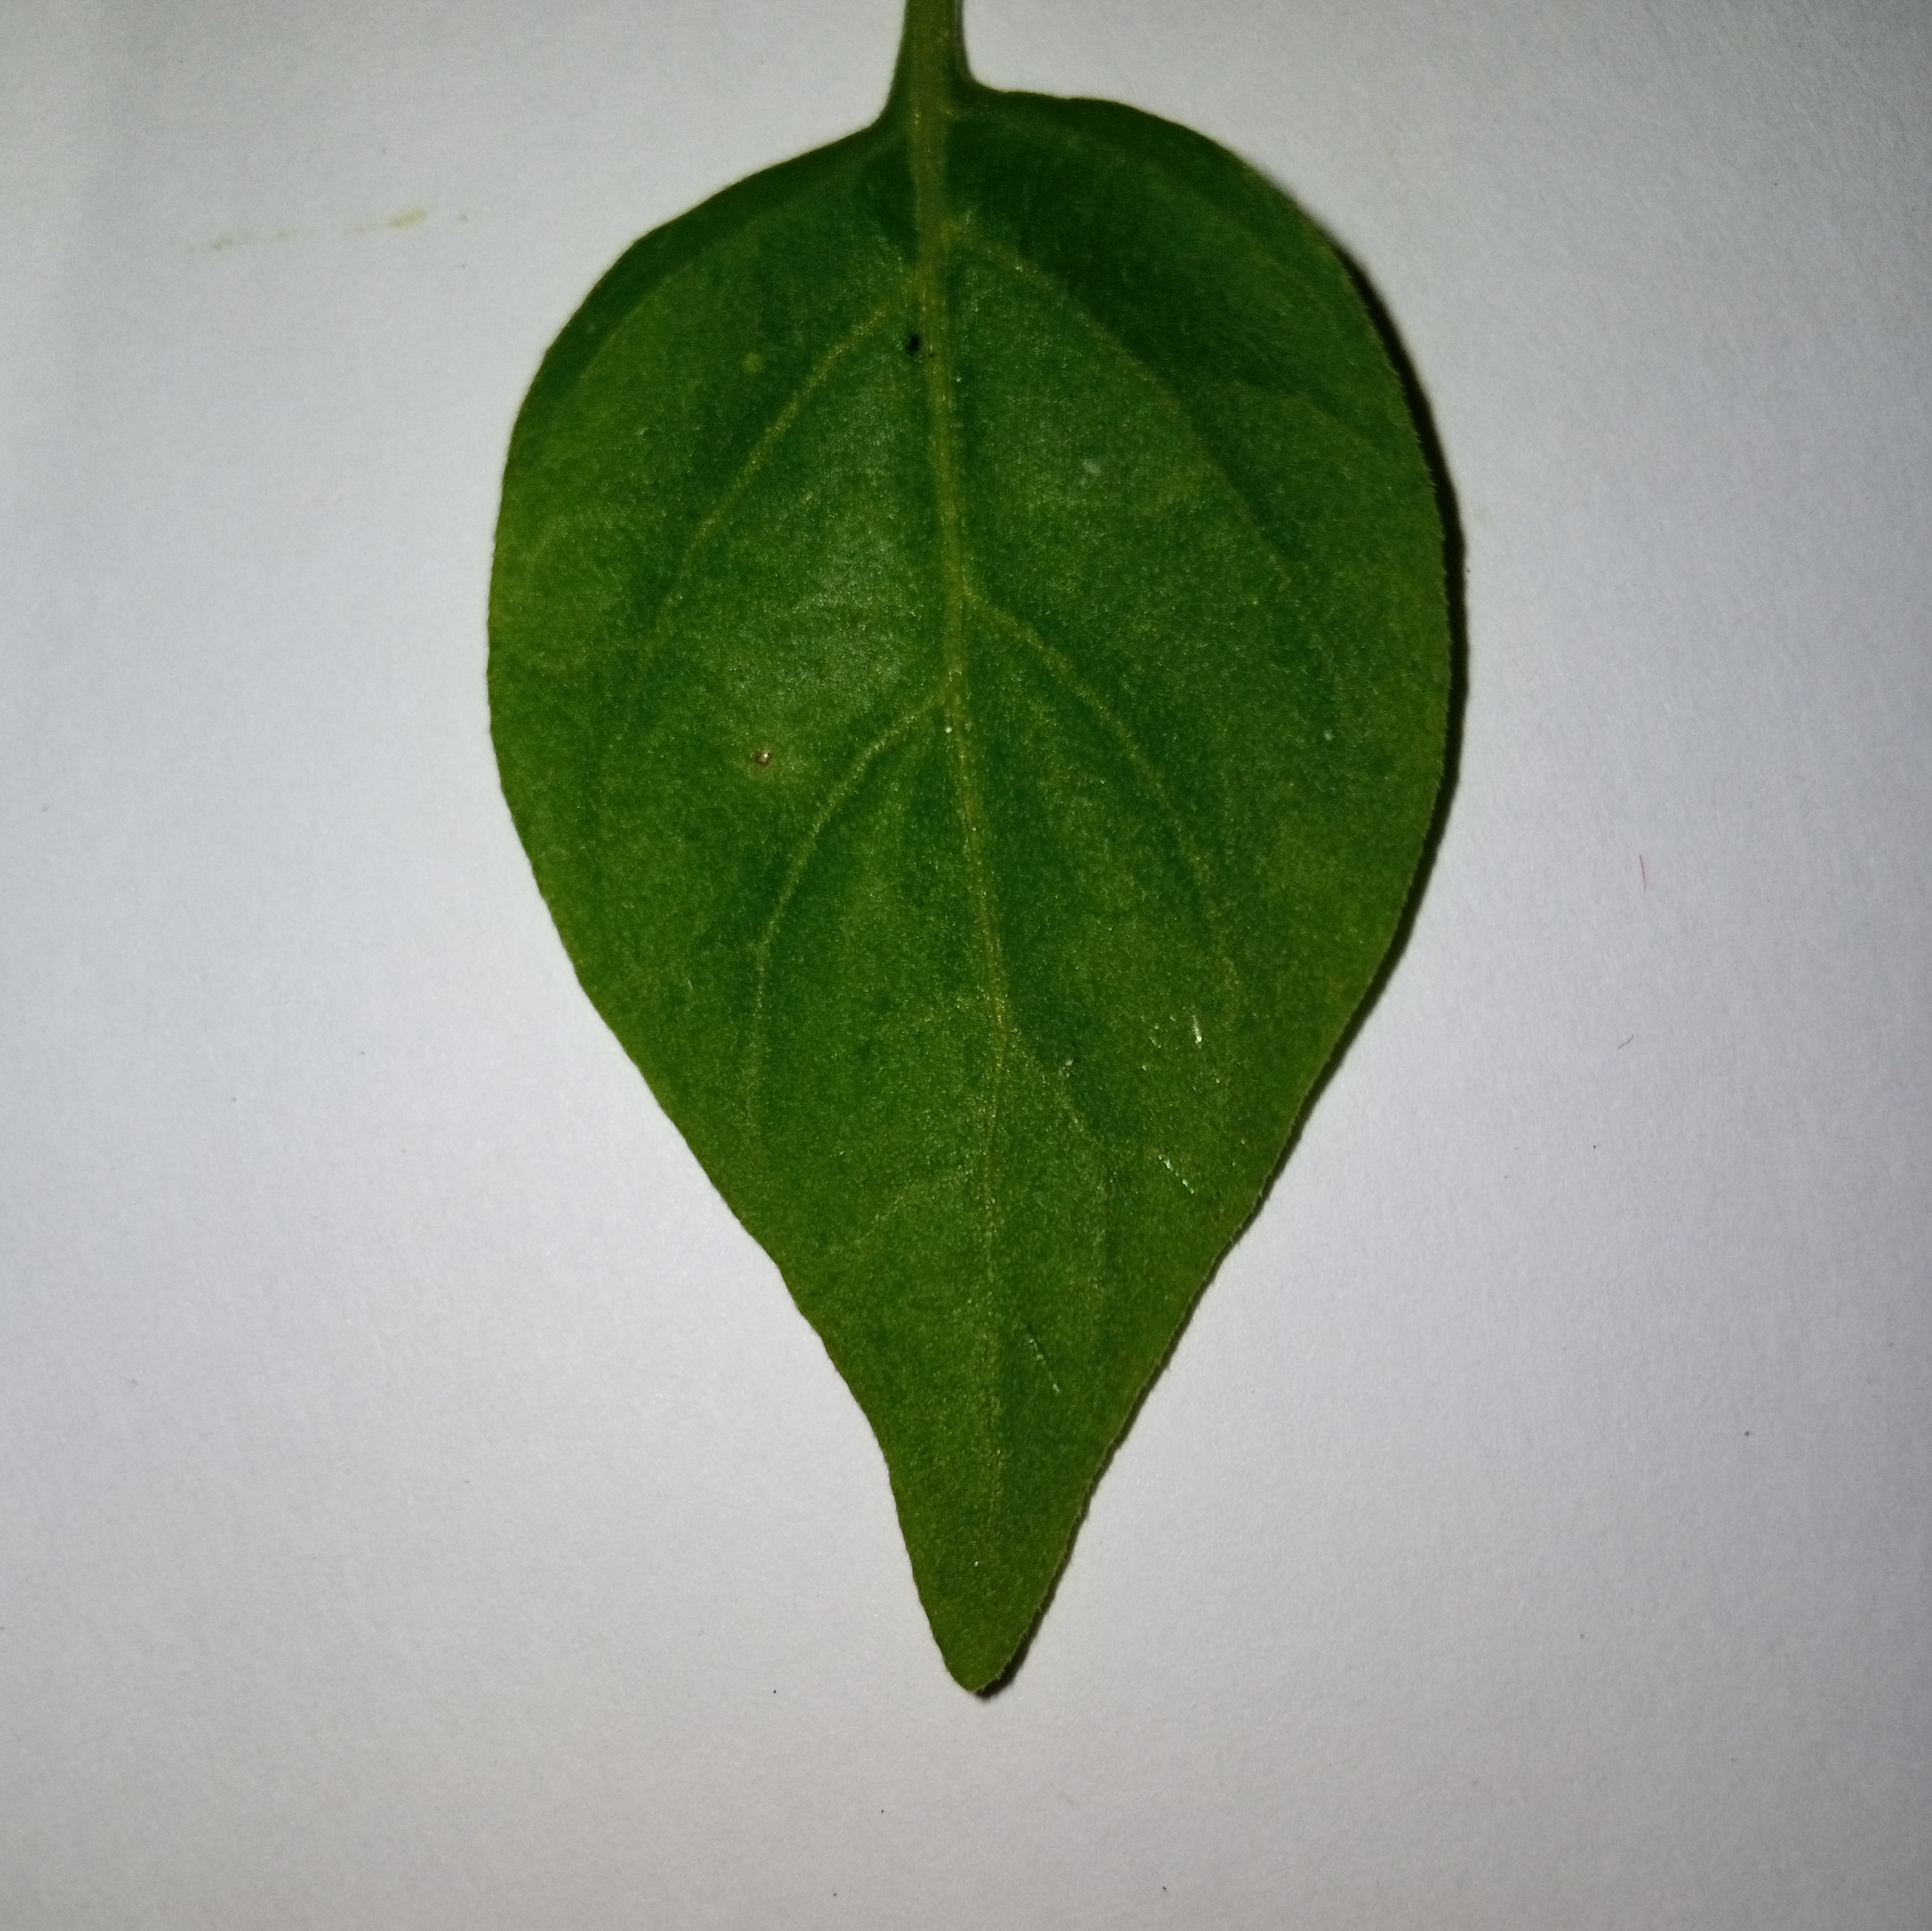Leaf: (326, 48, 1619, 1798)
